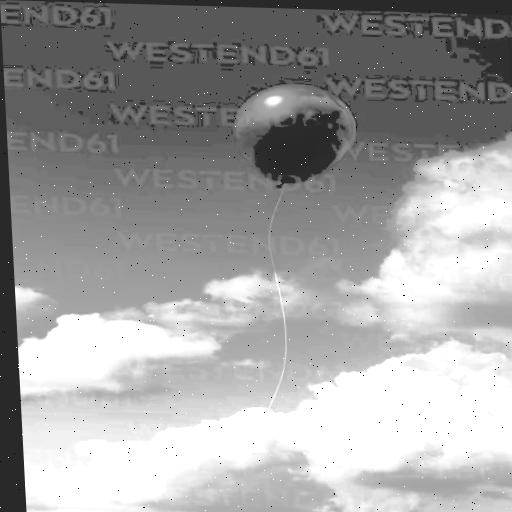balloon: (216, 69, 364, 195)
